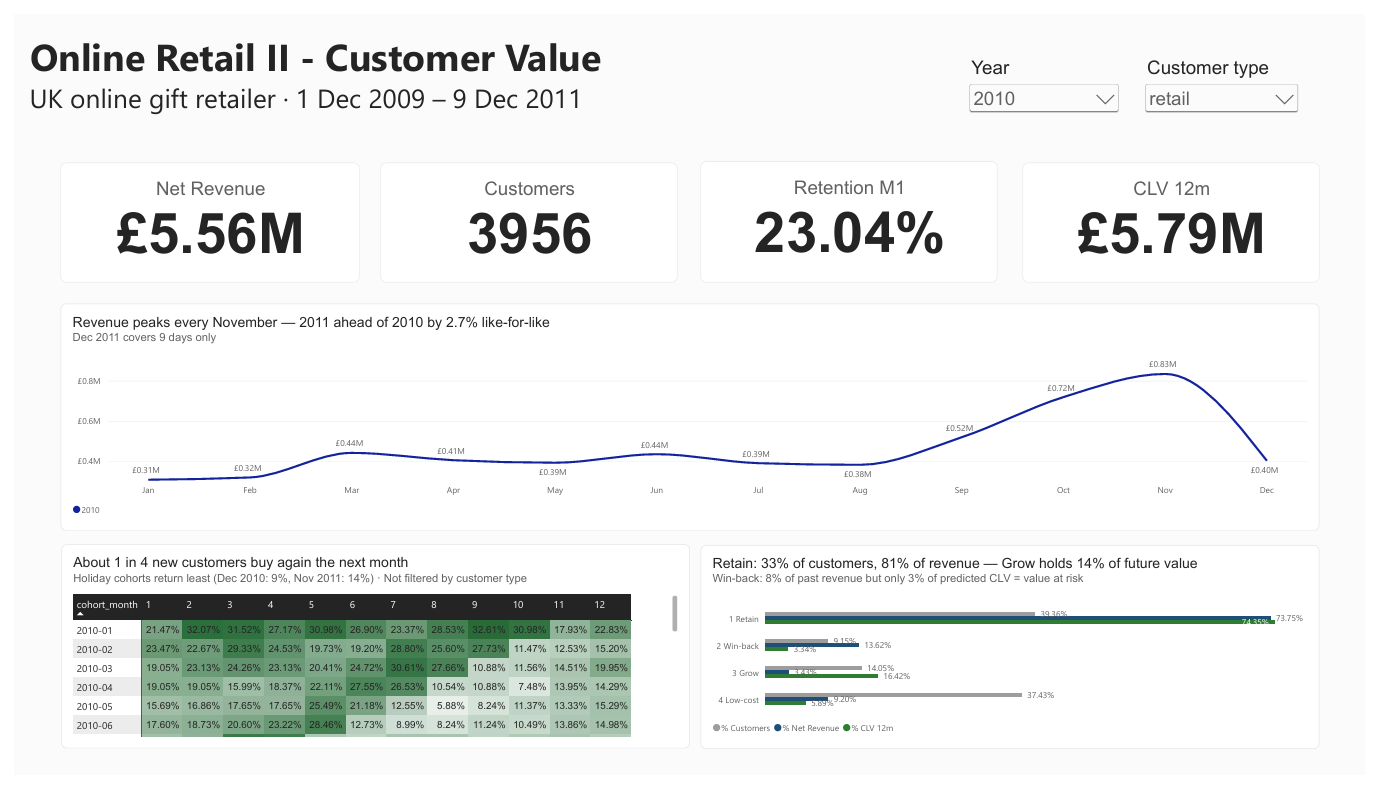

What the dashboard file says about the page in this screenshot:
{"tool":"powerbi","page":{"name":"Page 1","canvas":[1920,1080],"ordinal":0},"visuals":[{"type":"cardVisual","fields":{"Data":["fct_sales_daily.Net Revenue"]},"box":[65,210,425,170],"z":1},{"type":"cardVisual","fields":{"Data":["fct_sales_daily.Customers"]},"box":[520,210,422.5,170],"z":6},{"type":"cardVisual","fields":{"Data":["fct_sales_daily.CLV 12m"]},"box":[1432.5,210,422.5,170],"z":7},{"type":"textbox","box":[21.4,21.4,1178.2,152.6],"z":8},{"type":"slicer","fields":{"Values":["dim_customer.customer_type"]},"box":[1602.1,60.1,227.8,97.6],"z":9},{"type":"slicer","fields":{"Values":["dim_date.Year"]},"box":[1351.8,60.1,222.8,97.6],"z":10},{"type":"cardVisual","fields":{"Data":["fct_sales_daily.Retention M1"]},"box":[975,207.5,422.5,172.5],"z":11},{"type":"lineChart","title":"Revenue peaks every November — 2011 ahead of 2010 by 2.7% like-for-like","fields":{"Category":["dim_date.Month"],"Series":["dim_date.Year"],"Y":["fct_sales_daily.Net Revenue"]},"box":[65,410,1790,322.5],"z":12},{"type":"pivotTable","title":"About 1 in 4 new customers buy again the next month","fields":{"Columns":["cohort_retention.month_number"],"Rows":["cohort_retention.cohort_month"],"Values":["fct_sales_daily.Retention %"]},"box":[66,752,894,290],"z":13},{"type":"clusteredBarChart","title":"Retain: 33% of customers, 81% of revenue — Grow holds 14% of future value","fields":{"Category":["dim_customer.action_group"],"Y":["fct_sales_daily.% Customers","fct_sales_daily.% Net Revenue","fct_sales_daily.% CLV 12m"]},"box":[975,752.5,880,290],"z":14}]}

Visuals, with their boxes in screenshot pixels (x1, y1, x2, y2), scaled from the page's 1920x1080 canvas onto the 1380x789 screenshot:
cardVisual - fct_sales_daily.Net Revenue: box(47, 153, 352, 278)
cardVisual - fct_sales_daily.Customers: box(374, 153, 677, 278)
cardVisual - fct_sales_daily.CLV 12m: box(1030, 153, 1333, 278)
textbox: box(15, 16, 862, 127)
slicer - dim_customer.customer_type: box(1152, 44, 1315, 115)
slicer - dim_date.Year: box(972, 44, 1132, 115)
cardVisual - fct_sales_daily.Retention M1: box(701, 152, 1004, 278)
"Revenue peaks every November — 2011 ahead of 2010 by 2.7% like-for-like" lineChart: box(47, 300, 1333, 535)
"About 1 in 4 new customers buy again the next month" pivotTable: box(47, 549, 690, 761)
"Retain: 33% of customers, 81% of revenue — Grow holds 14% of future value" clusteredBarChart: box(701, 550, 1333, 762)
